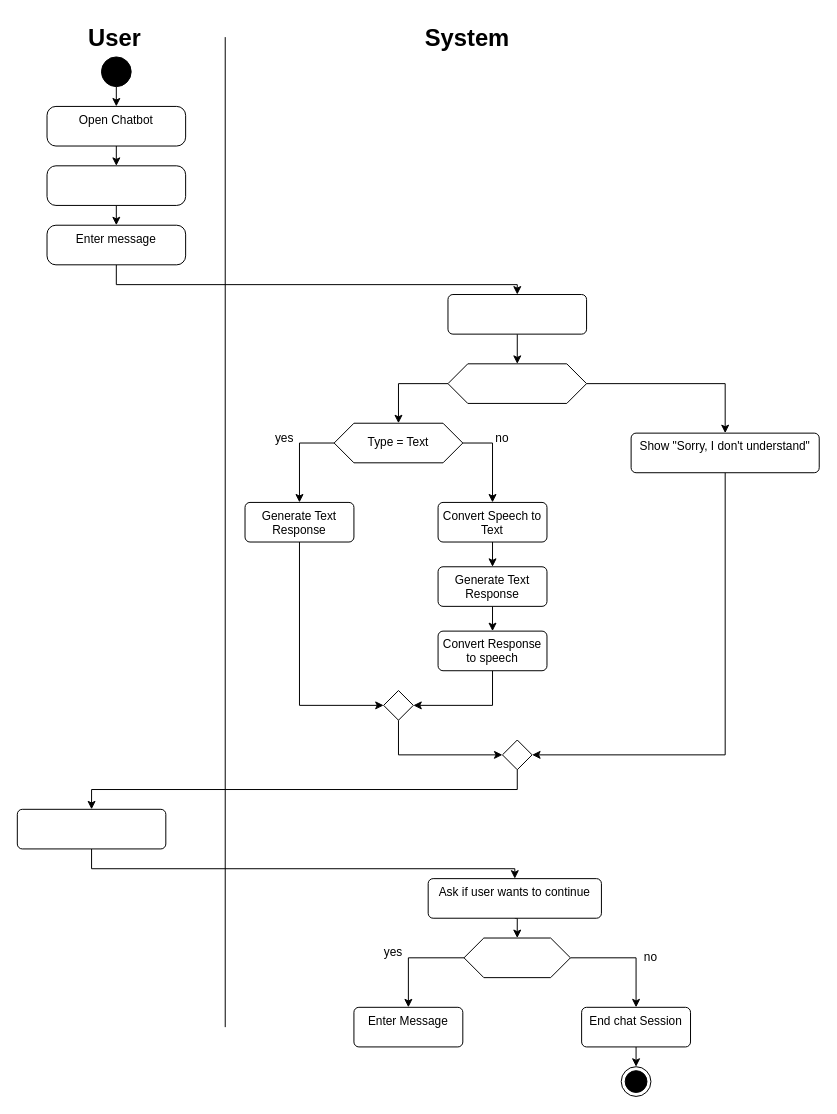
Image size: 837x1114. Some labels were removed from this diagram. The box of each missing label's shape, as (x1, y1, x2, y2) in pixels:
Analyze input: (447, 294, 587, 334)
Input Recognized: (447, 363, 587, 403)
User Answer: (463, 937, 570, 978)
View or Listen to response: (16, 808, 166, 849)
View Welcome message & Example questions: (46, 165, 186, 205)
